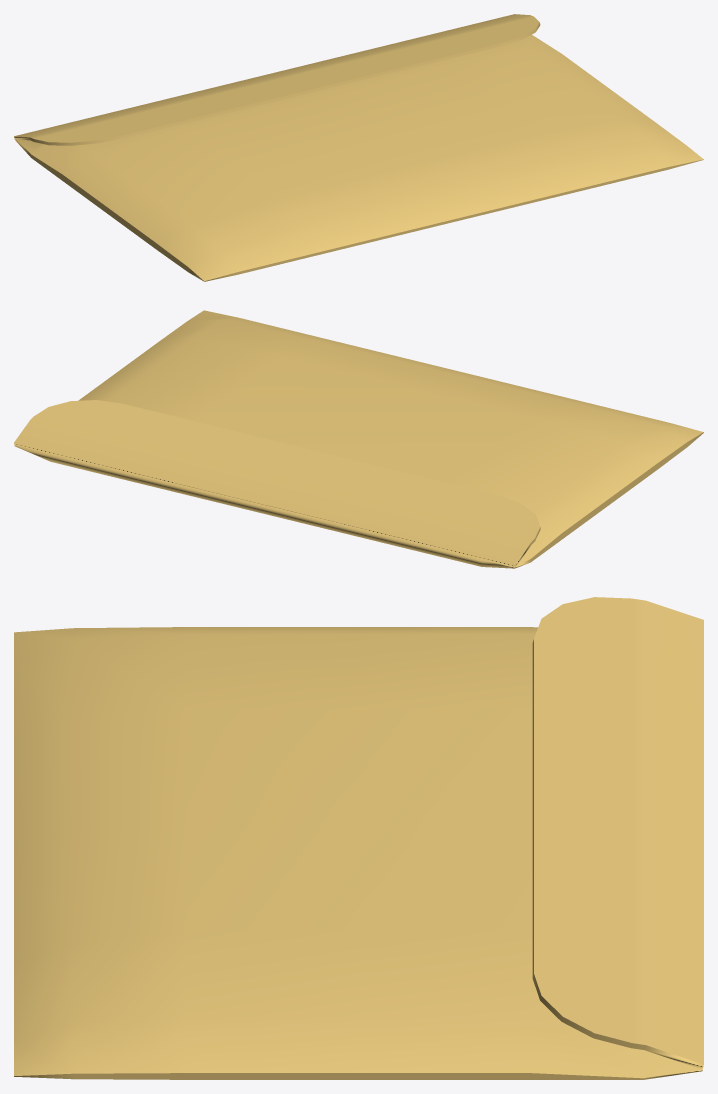
Rendered from Envelope.fbx.
3 renders of one model, top to bottom at view 1: azimuth 30°, elevation 25°; view 2: azimuth 150°, elevation 25°; view 3: azimuth 270°, elevation 25°, orthographic. The views are drawn at different scales.
Visible parts, largest first — view 1: Envelope, Envelope_Lid; view 2: Envelope, Envelope_Lid; view 3: Envelope, Envelope_Lid.
Boxes of the visible parts, x1=… form: Envelope: x1=15, y1=34, x2=703, y2=281; Envelope_Lid: x1=14, y1=14, x2=540, y2=145; Envelope: x1=14, y1=310, x2=703, y2=568; Envelope_Lid: x1=14, y1=400, x2=540, y2=567; Envelope: x1=14, y1=627, x2=702, y2=1079; Envelope_Lid: x1=532, y1=597, x2=703, y2=1069.
Bounding box in the file's own units: 262 × 25.18 × 172.
